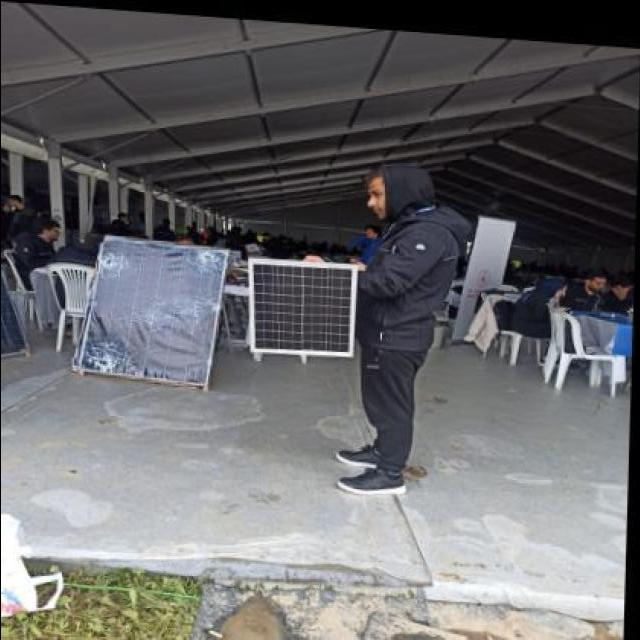cracked: (76, 235, 229, 398)
